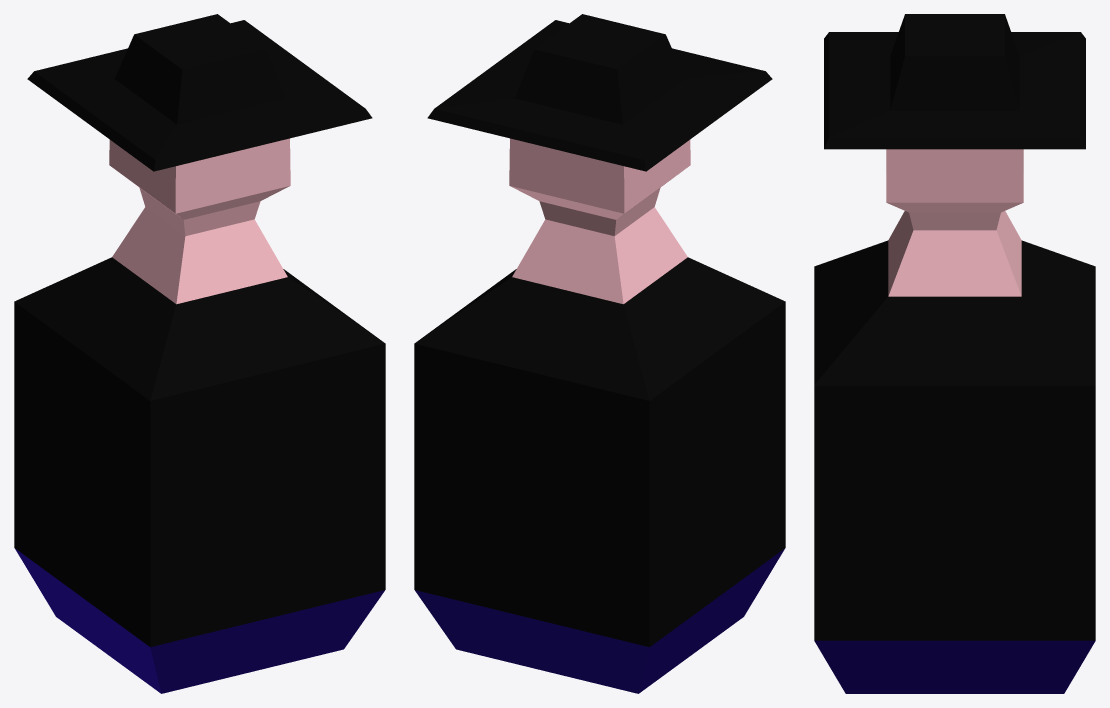
File: player.fbx
3 renders of one model, left to right at view 1: azimuth 30°, elevation 25°; view 2: azimuth 150°, elevation 25°; view 3: azimuth 270°, elevation 25°, orthographic. The views are drawn at different scales.
Visible parts, largest first — view 1: Cube; view 2: Cube; view 3: Cube.
Part boxes in pixels (x1,y1,x2,y2): Cube: (14,14,385,693); Cube: (414,14,785,693); Cube: (814,14,1095,693).
Bounding box in the file's own units: 200 × 480 × 200.
